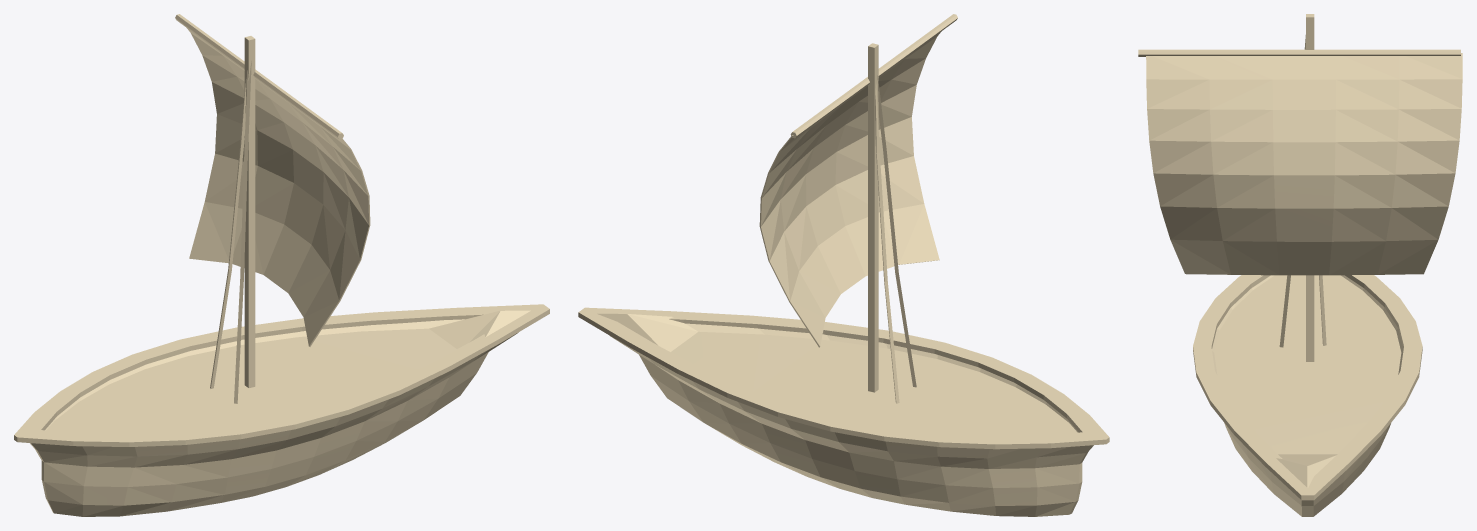
Rendered from shipPlayer.glb.
The picture shows the model from 3 angles, left to right: view 1: azimuth 30°, elevation 25°; view 2: azimuth 150°, elevation 25°; view 3: azimuth 270°, elevation 25°; orthographic projection.
Visible parts, largest first — view 1: Object140; view 2: Object140; view 3: Object140.
Part boxes in pixels (x1,y1,x2,y2): Object140: (14, 14, 549, 516); Object140: (578, 14, 1109, 516); Object140: (1138, 14, 1462, 516).
Size of the model in its own units: 20.92 by 16.45 by 11.16.
